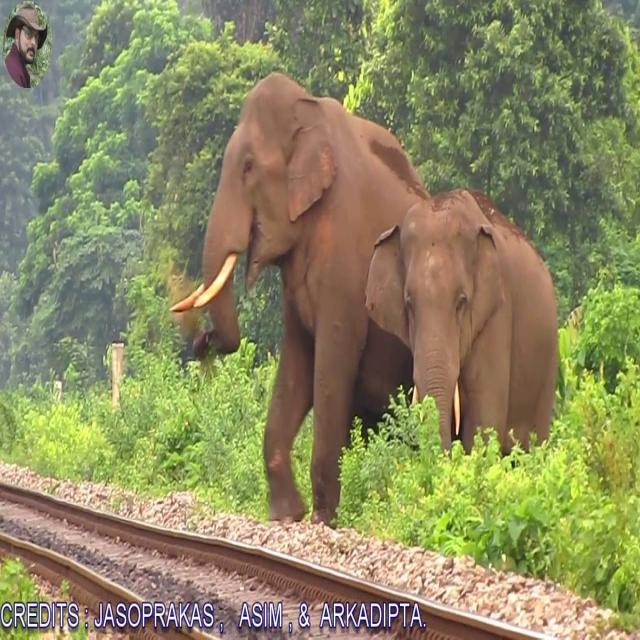Elephant: (186, 59, 359, 535), (360, 183, 574, 450)
